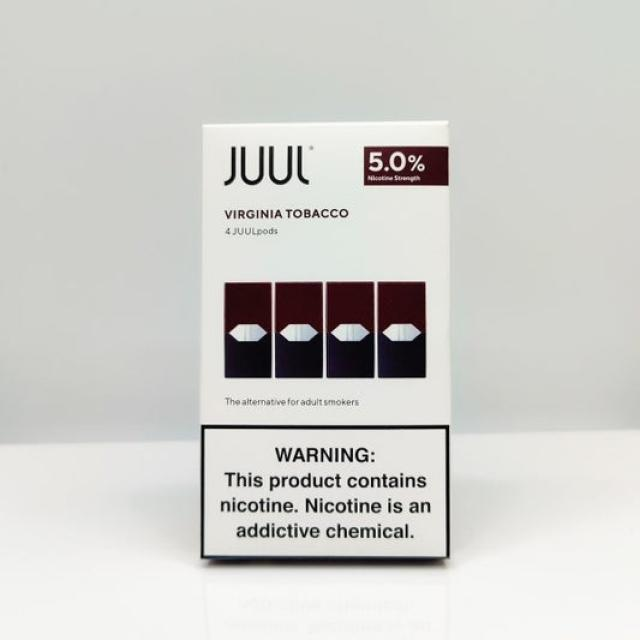Hazard: (198, 120, 453, 561)
